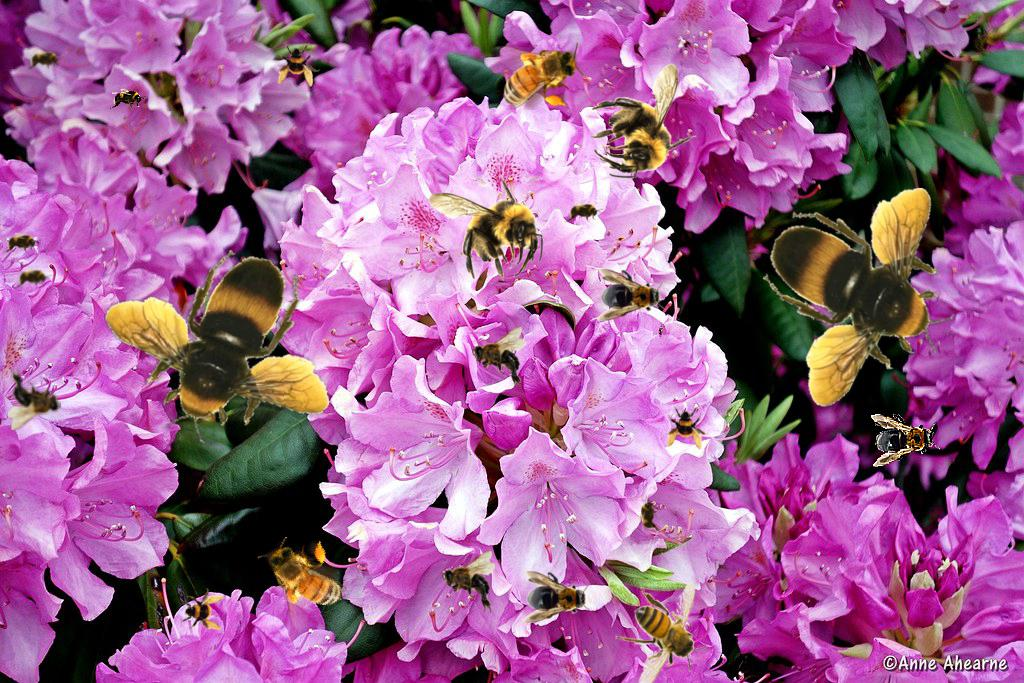Bee: (101, 245, 331, 448), (763, 188, 954, 408), (590, 63, 697, 178), (428, 174, 543, 281), (254, 522, 356, 637), (615, 581, 709, 683), (491, 42, 584, 110), (868, 409, 942, 467), (523, 571, 591, 623), (597, 269, 665, 321), (8, 368, 61, 430), (442, 551, 495, 613), (472, 327, 525, 389), (276, 43, 320, 87), (180, 588, 224, 632), (665, 406, 709, 450), (13, 267, 53, 289), (564, 201, 604, 223), (108, 88, 148, 110), (638, 495, 660, 535), (2, 232, 42, 254), (25, 49, 65, 71)
